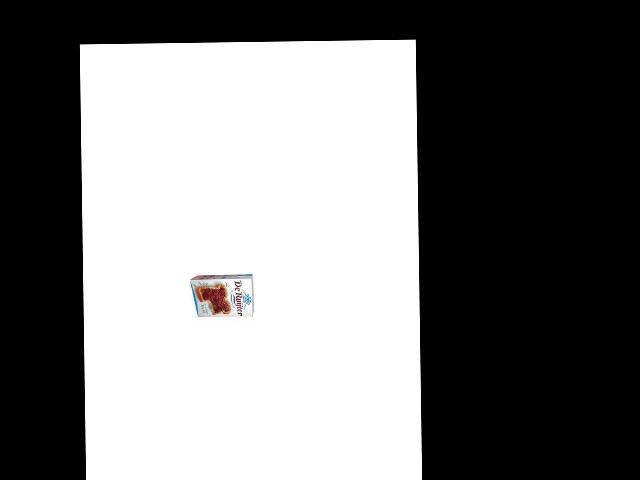chocolate: (191, 268, 257, 323)
